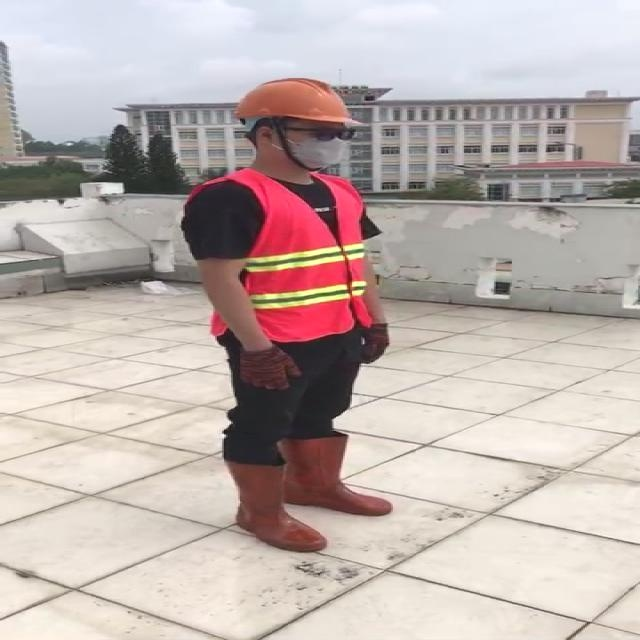boots: (247, 434, 361, 515), (312, 464, 414, 552)
gloves: (324, 310, 416, 410), (234, 306, 309, 382)
helmet: (276, 76, 410, 126)
vest: (272, 171, 430, 340)
